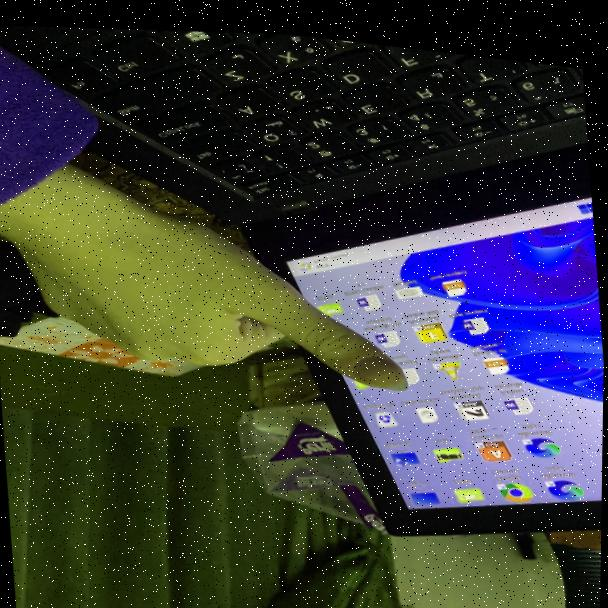five: (24, 141, 430, 425)
